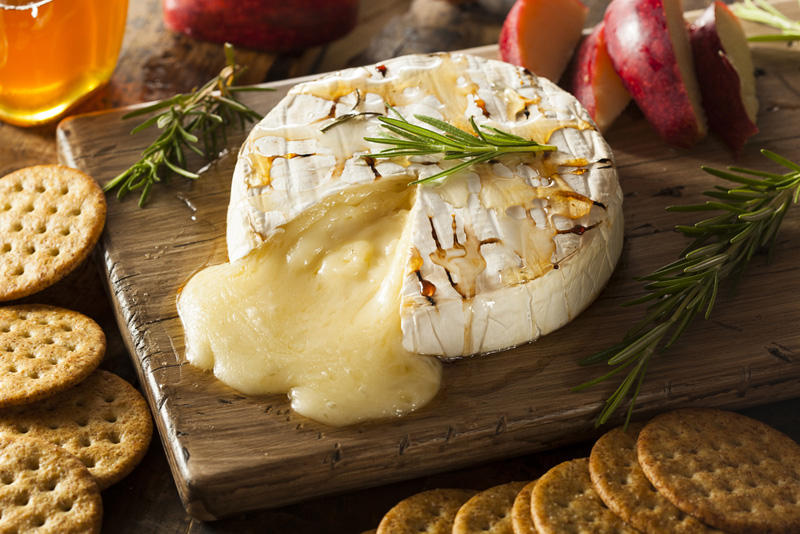camembert: (226, 51, 627, 364)
